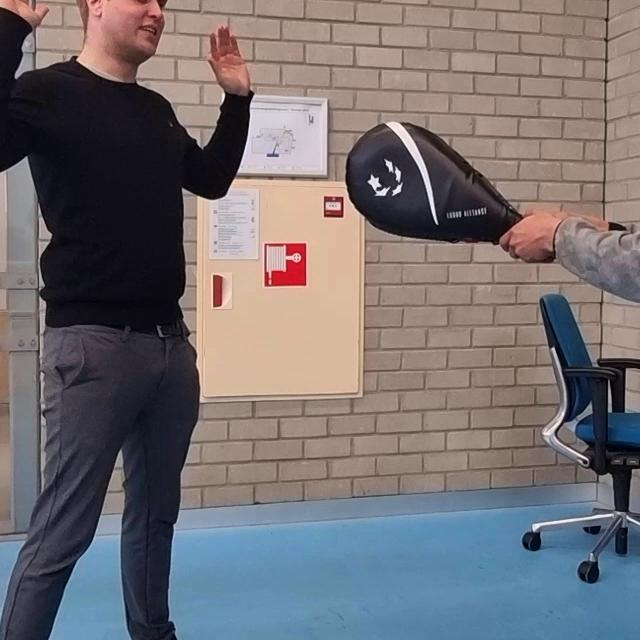paddle: (344, 120, 525, 246)
